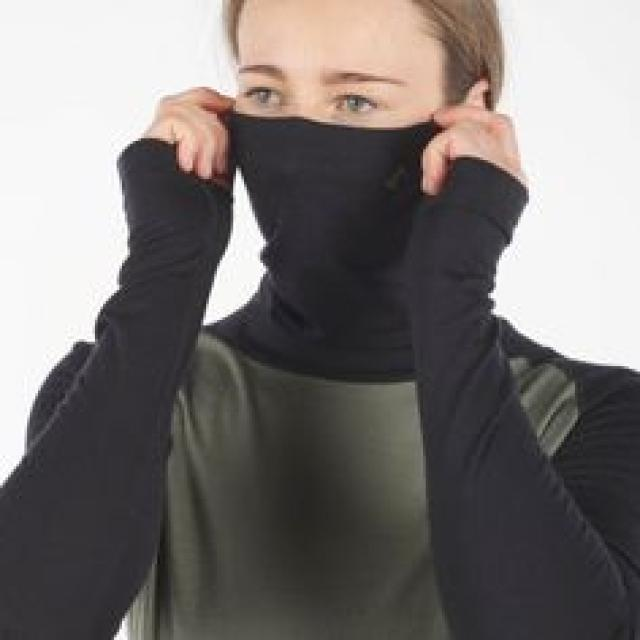8_ropa_rostro: (182, 92, 523, 361)
